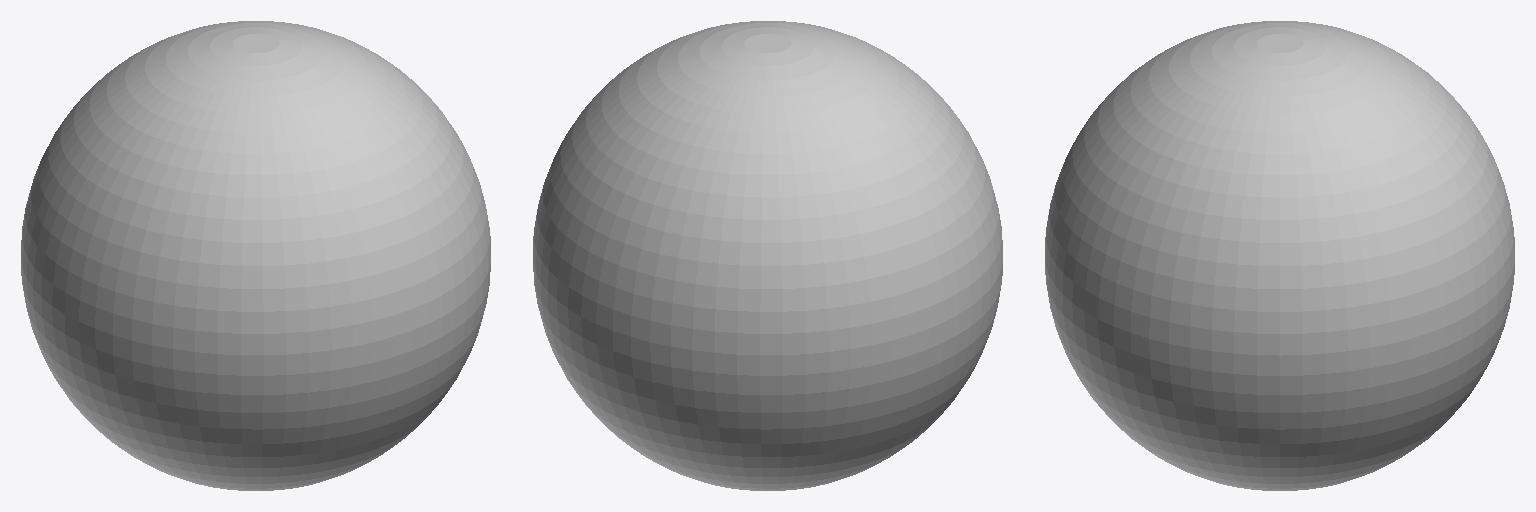
Rendered from ball12obj.obj.
3 views of the same model, side by side, from view 1: azimuth 30°, elevation 25°; view 2: azimuth 150°, elevation 25°; view 3: azimuth 270°, elevation 25° (orthographic).
Visible parts, largest first — view 1: planet_Sphere.014_planet_Sphere.030; view 2: planet_Sphere.014_planet_Sphere.030; view 3: planet_Sphere.014_planet_Sphere.030.
Part boxes in pixels (left/top/right/bottom): planet_Sphere.014_planet_Sphere.030: left=21, top=21, right=490, bottom=490; planet_Sphere.014_planet_Sphere.030: left=533, top=21, right=1002, bottom=490; planet_Sphere.014_planet_Sphere.030: left=1045, top=21, right=1514, bottom=490.
Bounding box in the file's own units: 2 × 1.99 × 2.